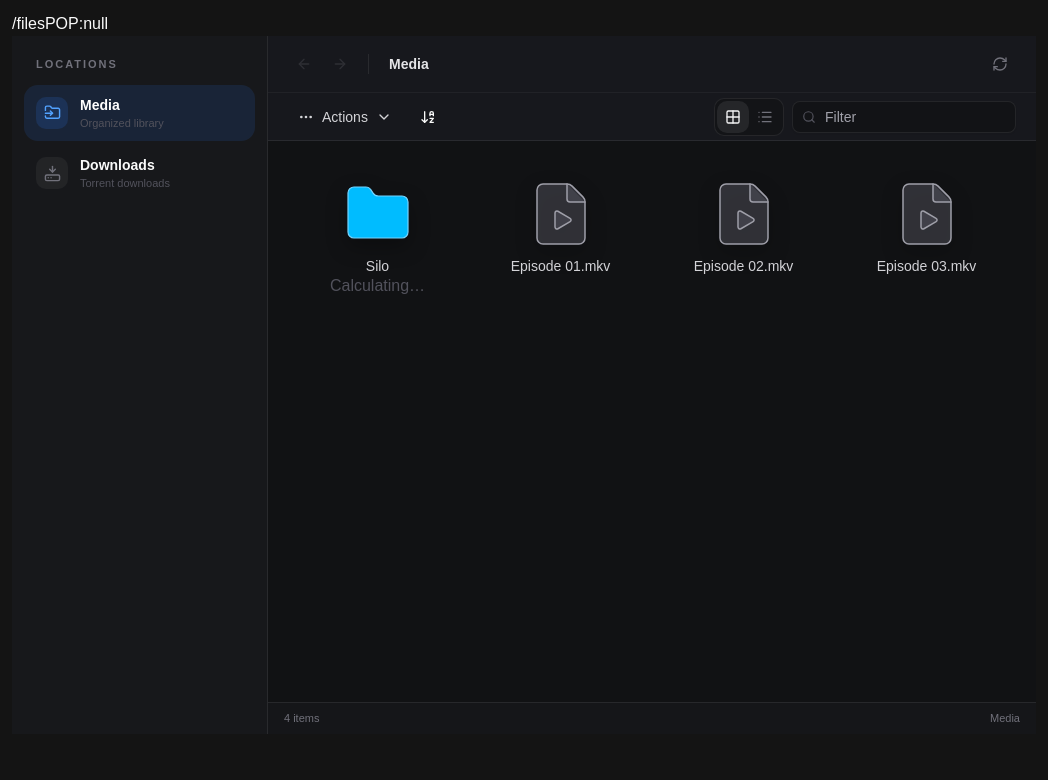
FileManager › keeps view mode functional when storage access fails
Click the button named "List view" at (765, 116), box [749,100,781,132]
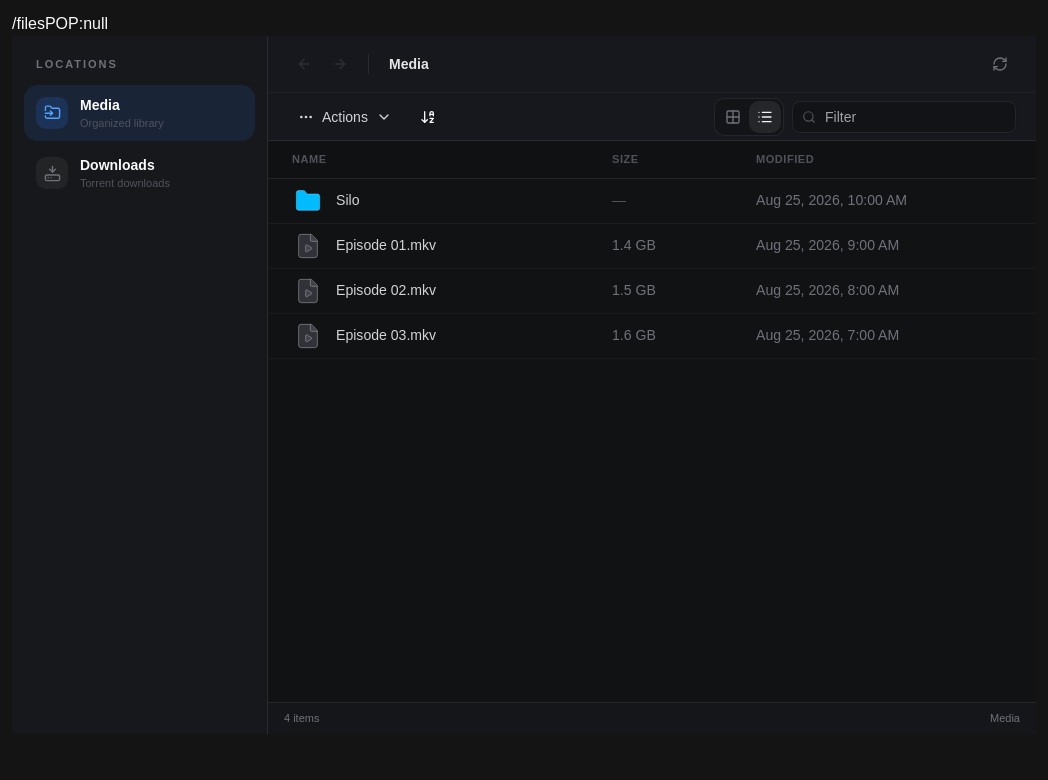
Expected: the element with test id "file-list" is shown, [268,141,1036,358]
